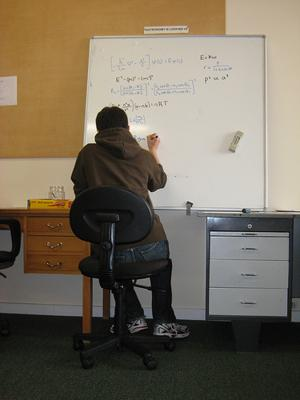person: (71, 106, 190, 342)
